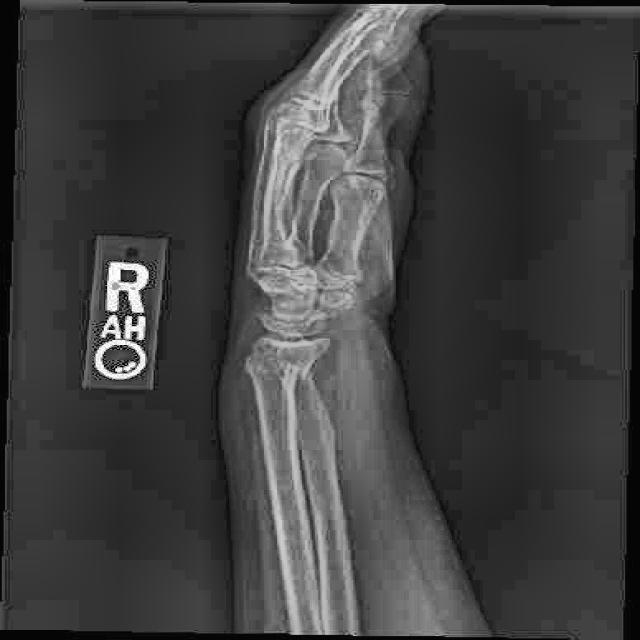fingers positive: (223, 337, 341, 389)
